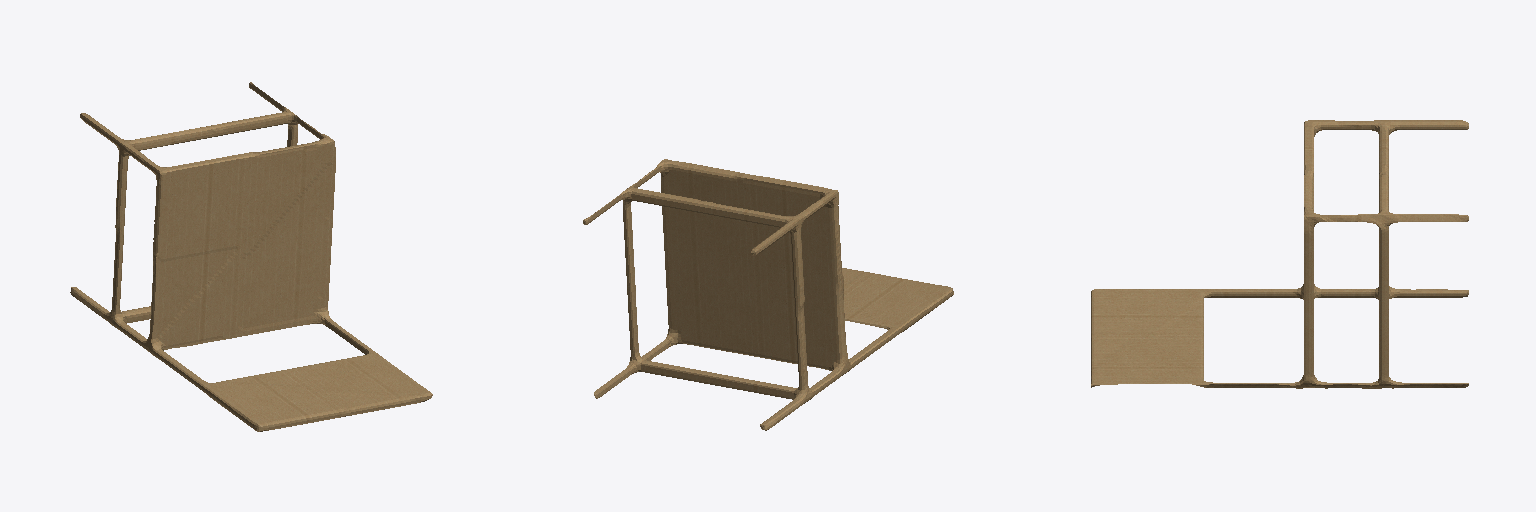
3 renders of one model, left to right at view 1: azimuth 30°, elevation 25°; view 2: azimuth 150°, elevation 25°; view 3: azimuth 270°, elevation 25°, orthographic.
Bounding box in the file's own units: 0.4408 × 0.4312 × 0.7761.
1 materials, 1 textured.